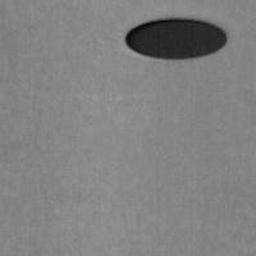Punching: (125, 19, 227, 59)
